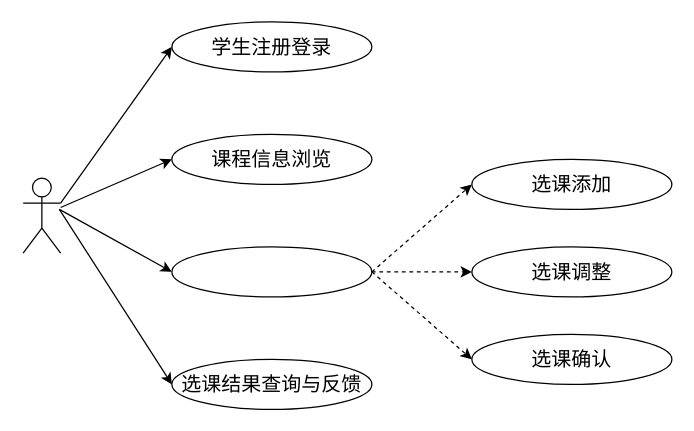
This 694x431 diagram has some shape labels left out. The shapes that lost their labels are listed below. From the top down, each one's centre as x and y in pixels, then its label:
the point at 41,215: 学生
the point at 271,271: 选课操作
